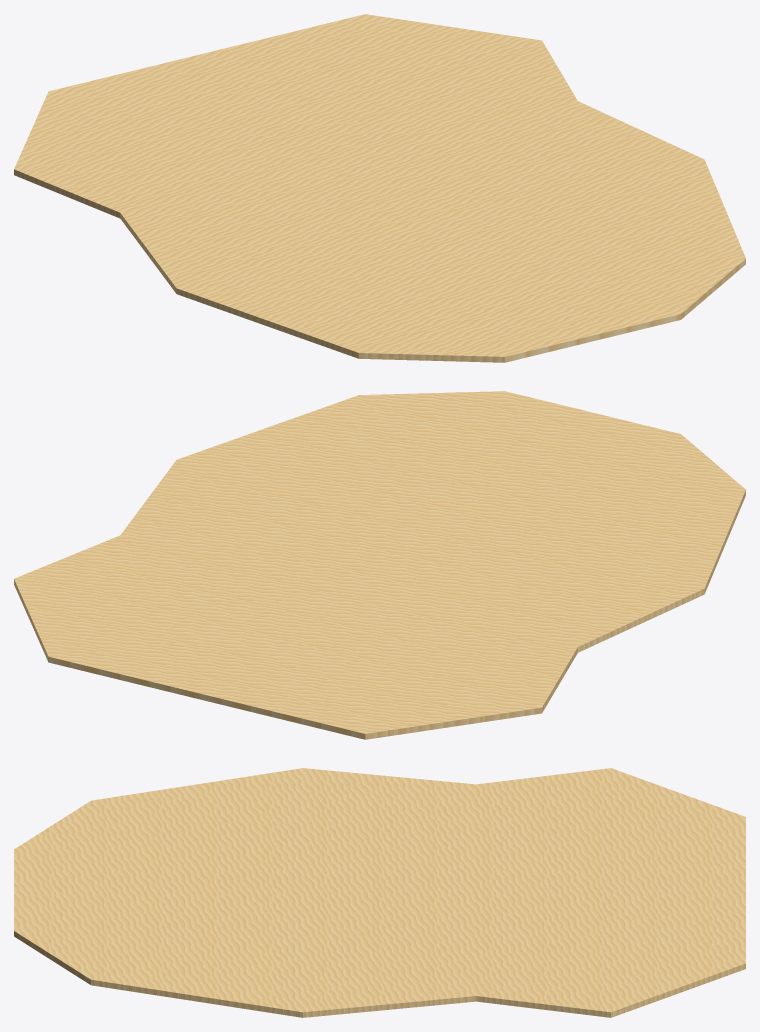
File: seabed-23-CUSHKTRc.glb
3 views of the same model, one above another, from view 1: azimuth 30°, elevation 25°; view 2: azimuth 150°, elevation 25°; view 3: azimuth 270°, elevation 25° (orthographic). The views are drawn at different scales.
Visible parts, largest first — view 1: SW_SandShelf; view 2: SW_SandShelf; view 3: SW_SandShelf.
Boxes of the visible parts, x1,y1,x2,y2 form: SW_SandShelf: [14, 14, 745, 362]; SW_SandShelf: [14, 391, 745, 739]; SW_SandShelf: [14, 768, 745, 1017].
Size of what is drawn, in the model's own units: 30 by 0.32 by 38.
Materials: 1 (1 with a texture image).
